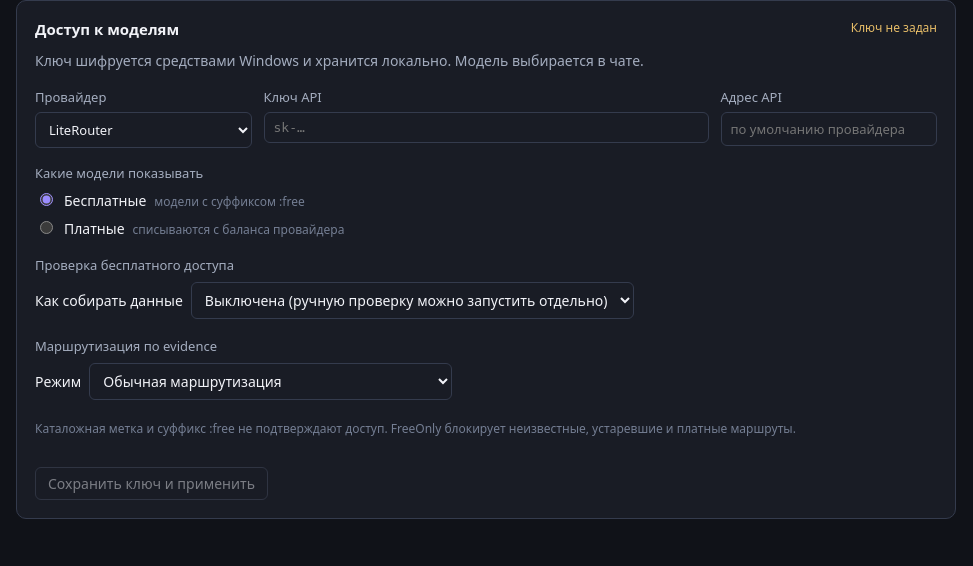
Test case: provider form › sends the key once and clears the field afterwards
The width and height of the screenshot is (973, 566).
Expected: the text "Ключ не задан" is shown, [851, 19, 937, 36]
Type "sk-secret-value" into the password field labelled "Ключ API" at (486, 128), box [264, 112, 708, 143]
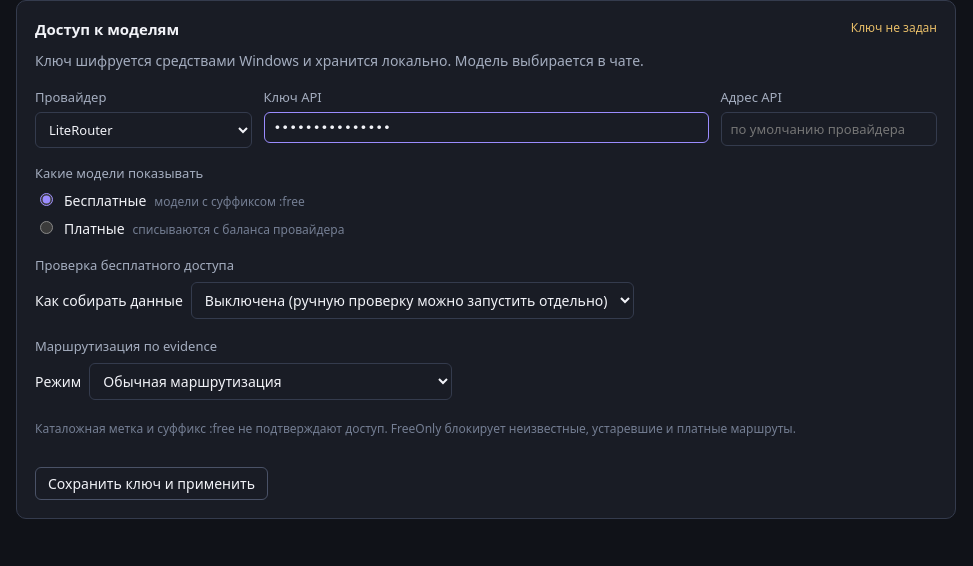
Click the button "Сохранить ключ и применить" at (152, 484), box [35, 467, 268, 500]
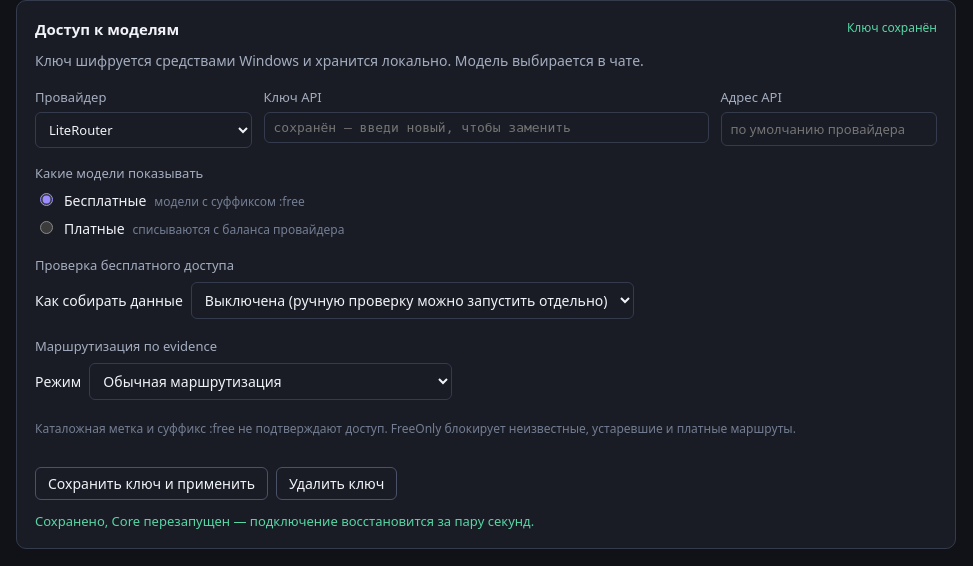
Expected: the text "Core перезапущен" is shown, [35, 512, 534, 530]
Expected: the password field labelled "Ключ API" is empty, [264, 112, 708, 143]
Expected: the text "Ключ сохранён" is shown, [847, 19, 937, 36]
